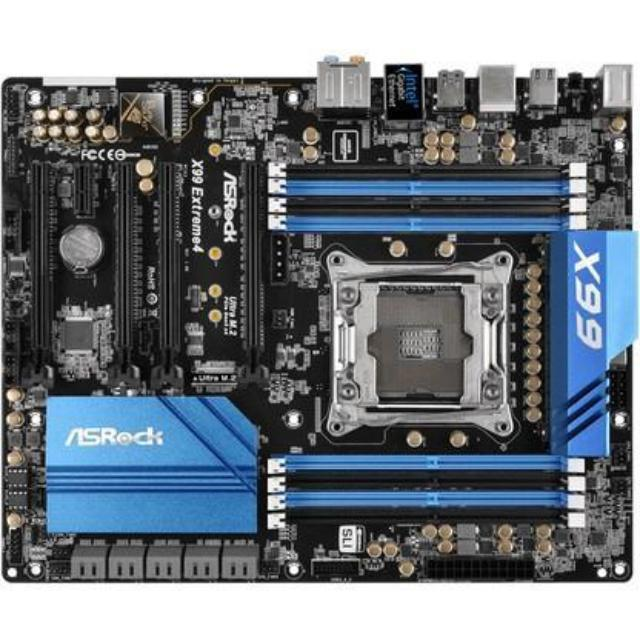Mainboard: (0, 66, 637, 588)
